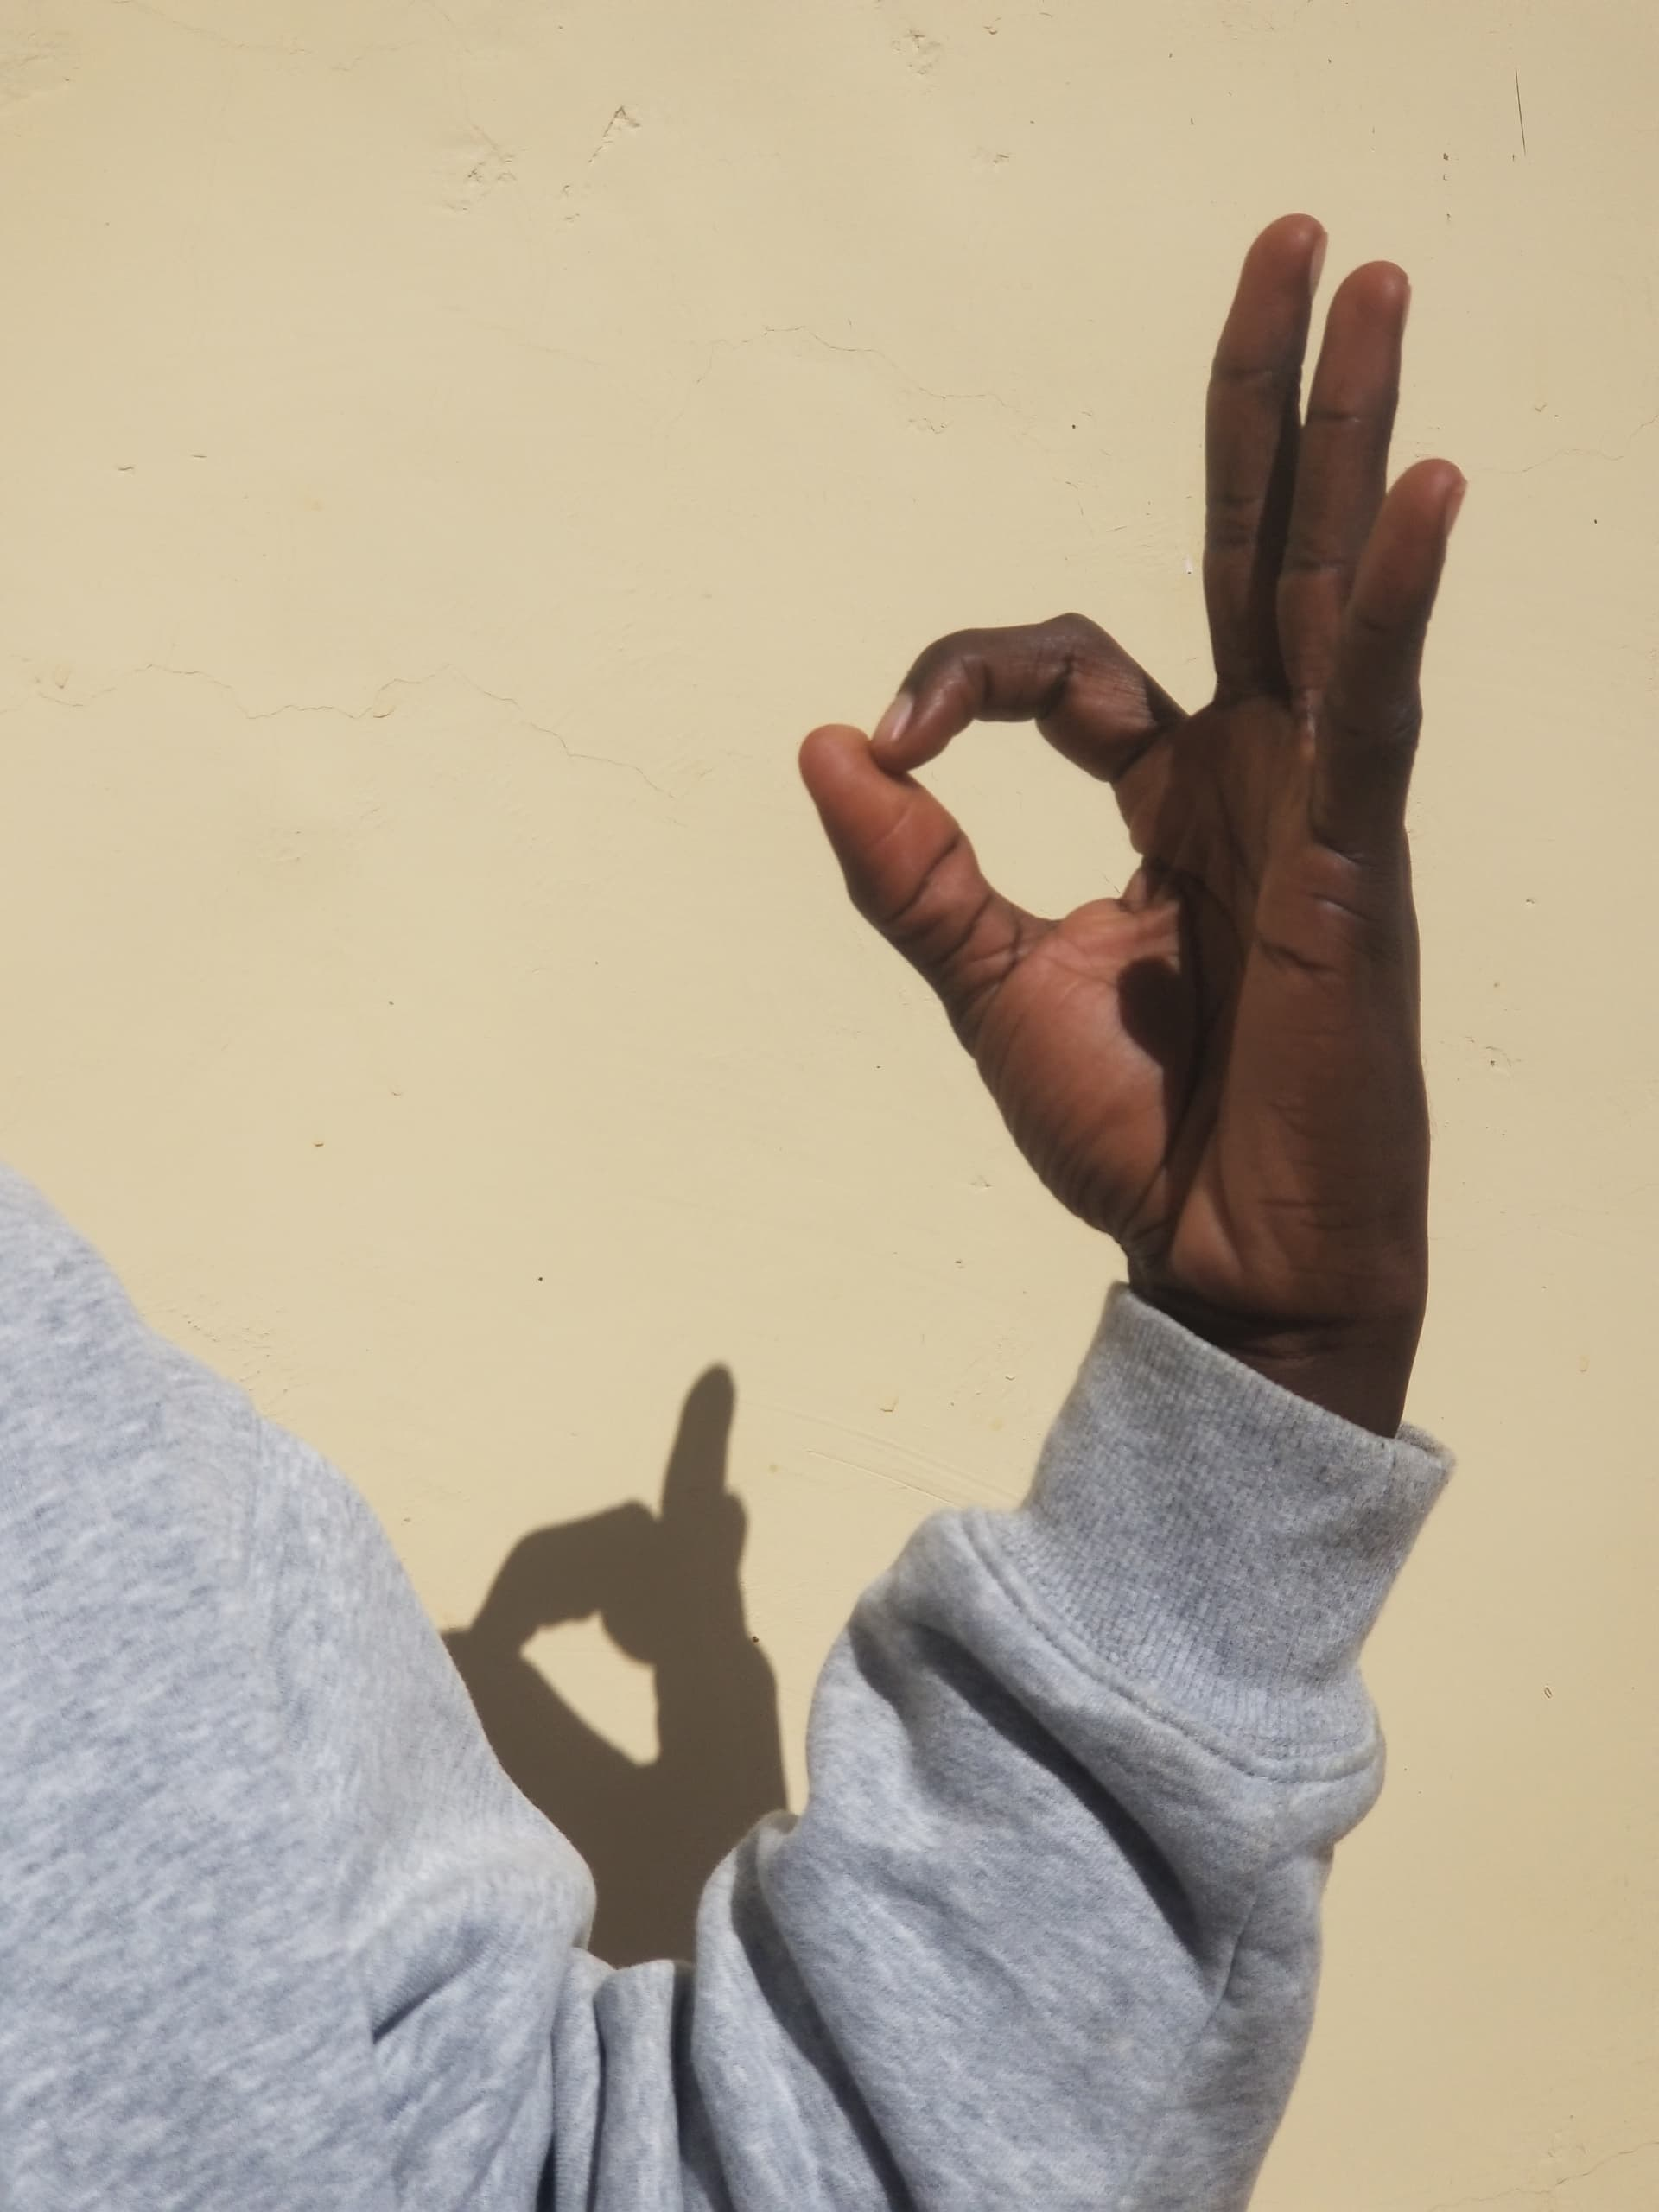okay: (725, 162, 1565, 1421)
